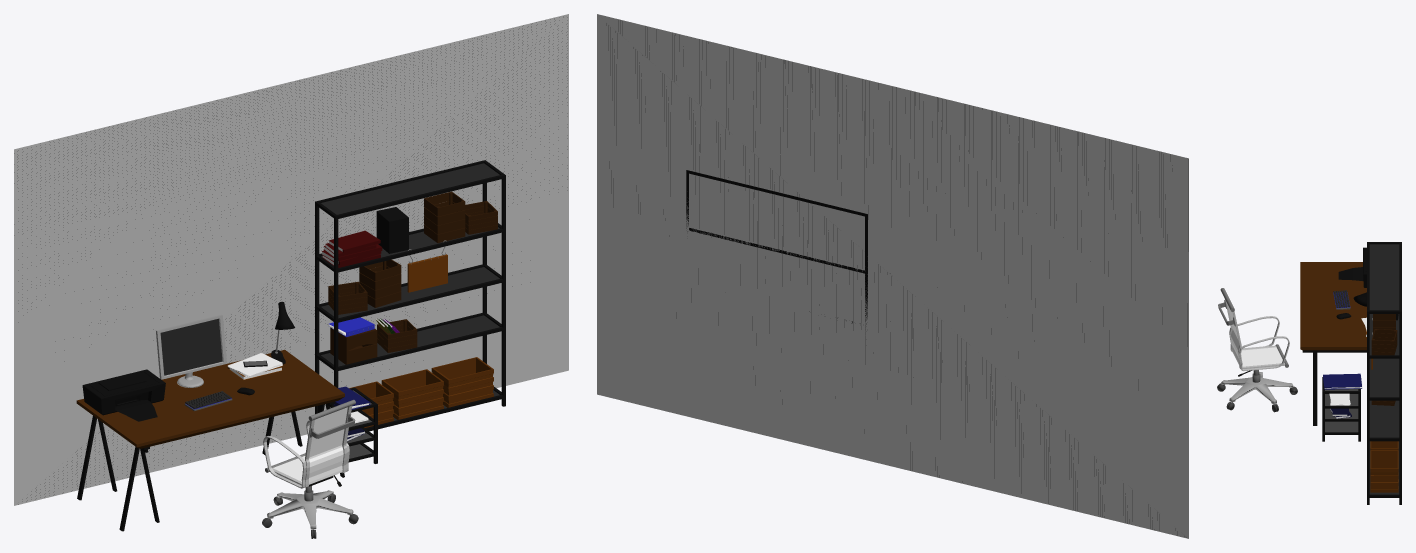
The model's file is office_005.glb.
3 views of the same model, side by side, from view 1: azimuth 30°, elevation 25°; view 2: azimuth 150°, elevation 25°; view 3: azimuth 270°, elevation 25° (orthographic). The views are drawn at different scales.
Visible parts, largest first — view 1: Plane, cupboard, desk, chair, box.002, monitor, printer, box.006, box.004, speaker, cupboard.001, box.007 (+5 smaller); view 2: Plane, cupboard; view 3: cupboard, desk, chair, box.002, cupboard.001, box.005, ringbinder.001, printer, box.006, keyboard, paper.002.
Part boxes in pixels (x1,y1,x2,y2): Plane: (14,14,568,505); cupboard: (315,160,505,431); desk: (76,349,344,531); chair: (262,399,358,538); box.002: (349,357,493,427); monitor: (156,314,226,387); printer: (82,369,165,421); box.006: (424,191,465,243); box.004: (359,259,401,307); speaker: (376,207,408,253); cupboard.001: (318,387,377,463); box.007: (330,327,377,364); Plane: (597,14,1188,538); cupboard: (686,170,867,329); cupboard: (1367,242,1401,504); desk: (1300,262,1366,425); chair: (1217,288,1297,412); box.002: (1370,441,1398,492); cupboard.001: (1322,377,1360,441); box.005: (1371,329,1397,355); ringbinder.001: (1323,373,1362,389); printer: (1338,247,1366,287); box.006: (1373,314,1395,334); keyboard: (1333,290,1350,309); paper.002: (1329,393,1350,405).
Size of the model in its own units: 3620 by 2226 by 1248.
Materials: 1 (1 with a texture image).
